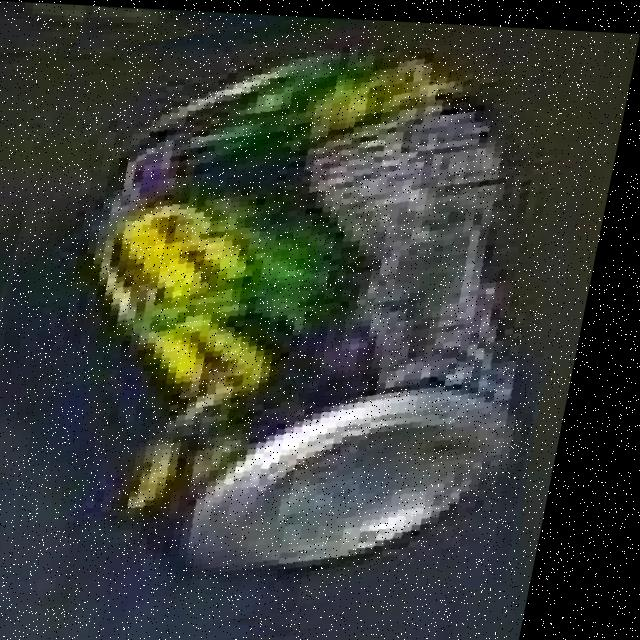can: (11, 15, 566, 626)
